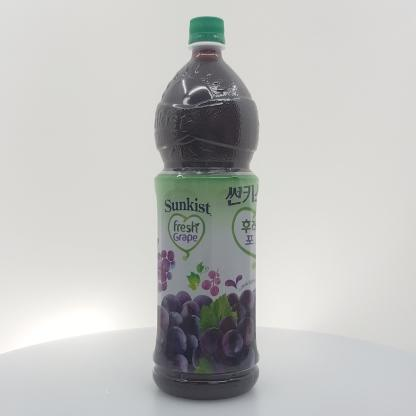-------50_1-5L: (152, 16, 259, 400)
